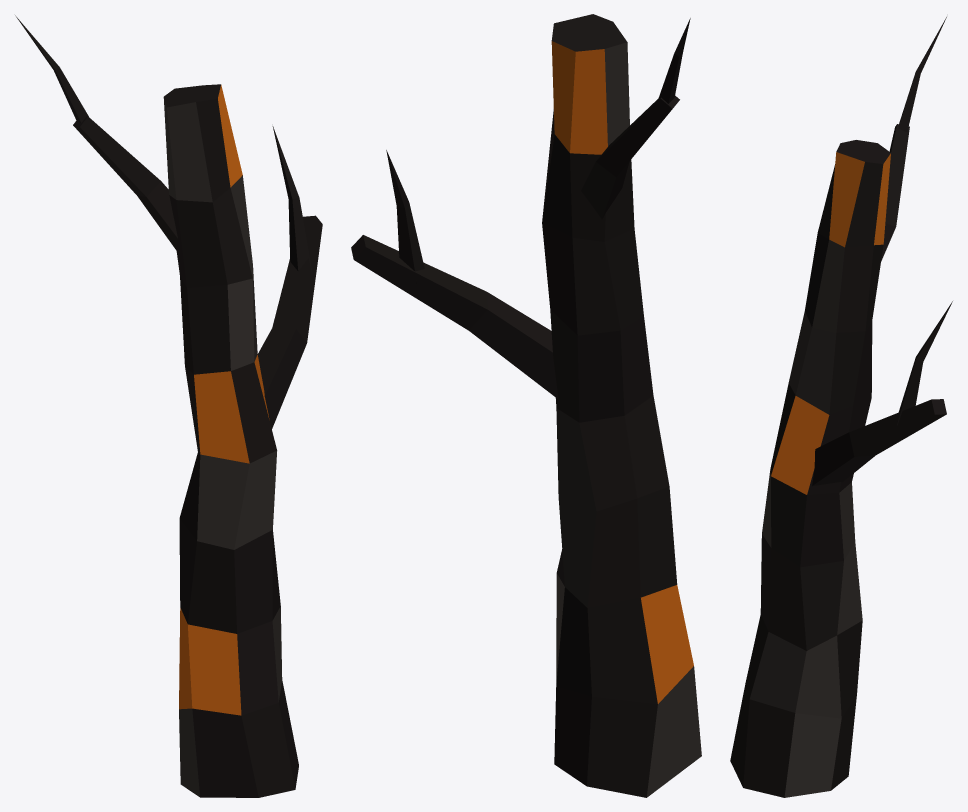
File: Tree_Charred_A.glb
3 renders of one model, left to right at view 1: azimuth 30°, elevation 25°; view 2: azimuth 150°, elevation 25°; view 3: azimuth 270°, elevation 25°, orthographic. The views are drawn at different scales.
Visible parts, largest first — view 1: Tree_Charred_A; view 2: Tree_Charred_A; view 3: Tree_Charred_A.
Part boxes in pixels (x1=…): Tree_Charred_A: x1=15, y1=15, x2=322, y2=797; Tree_Charred_A: x1=351, y1=14, x2=701, y2=797; Tree_Charred_A: x1=730, y1=17, x2=952, y2=797.
Bounding box in the file's own units: 1.43 × 3.4 × 0.9776.
